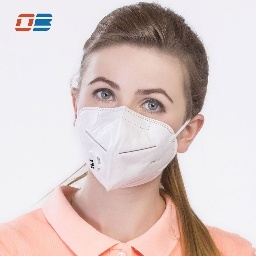correctlyWear: (70, 65, 204, 191)
